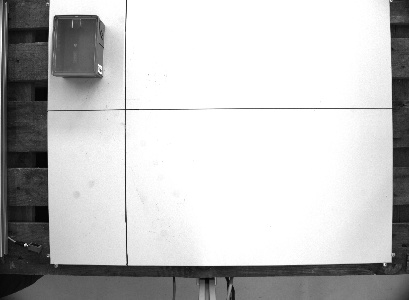klts: (49, 12, 107, 81)
